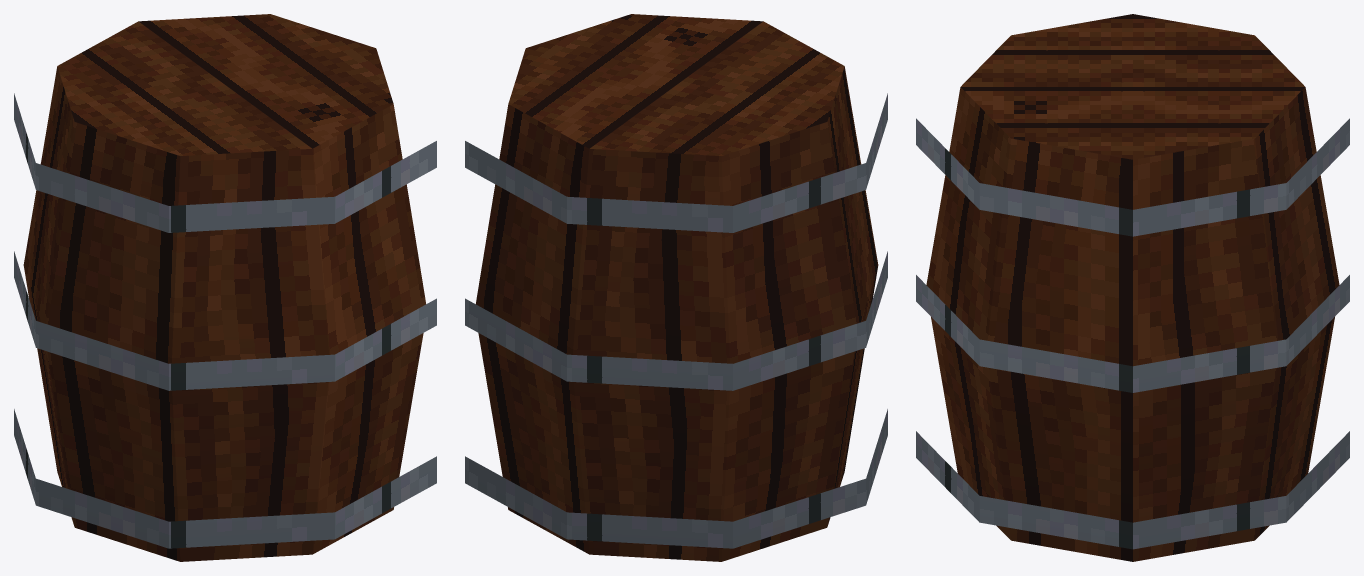
File: barrel.glb
3 renders of one model, left to right at view 1: azimuth 30°, elevation 25°; view 2: azimuth 150°, elevation 25°; view 3: azimuth 270°, elevation 25°, orthographic.
Visible parts, largest first — view 1: barrel; view 2: barrel; view 3: barrel.
Part boxes in pixels (x1=…): barrel: x1=14, y1=14, x2=436, y2=561; barrel: x1=465, y1=14, x2=887, y2=561; barrel: x1=916, y1=14, x2=1349, y2=561.
Size of the model in its own units: 0.88 by 0.9 by 0.88.
Materials: 2 (2 with a texture image).
